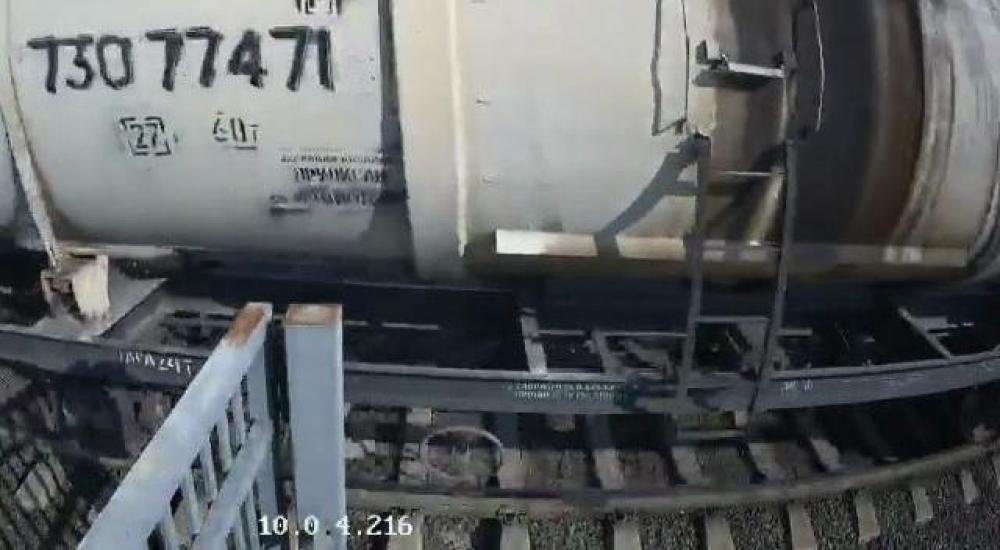Wagon-number: (22, 22, 344, 100)
